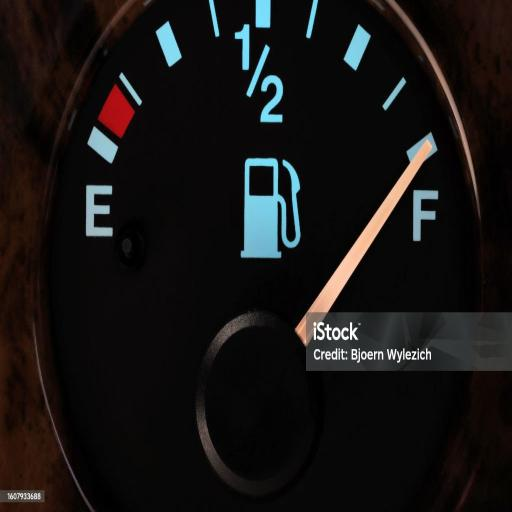empty: (77, 175, 119, 246)
fuel_icon: (237, 150, 303, 264)
full: (409, 186, 442, 246)
guage_area: (31, 0, 496, 512)
needle_center: (184, 293, 334, 512)
needle_tip: (418, 136, 436, 164)
